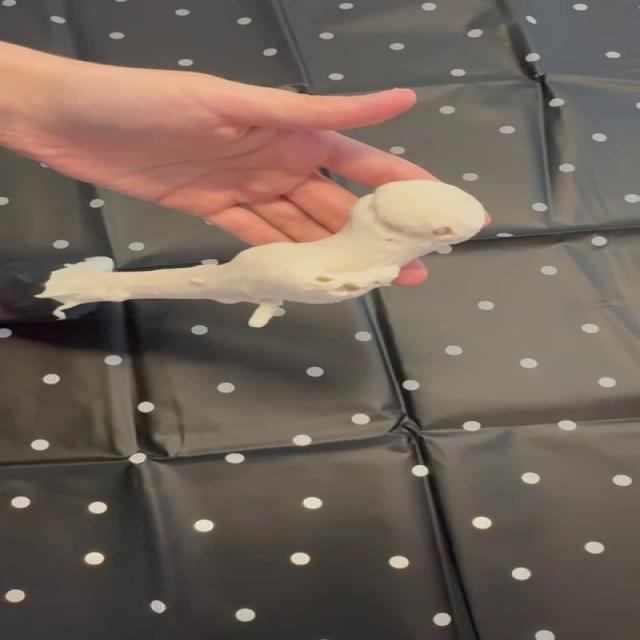bones: (0, 181, 485, 327)
